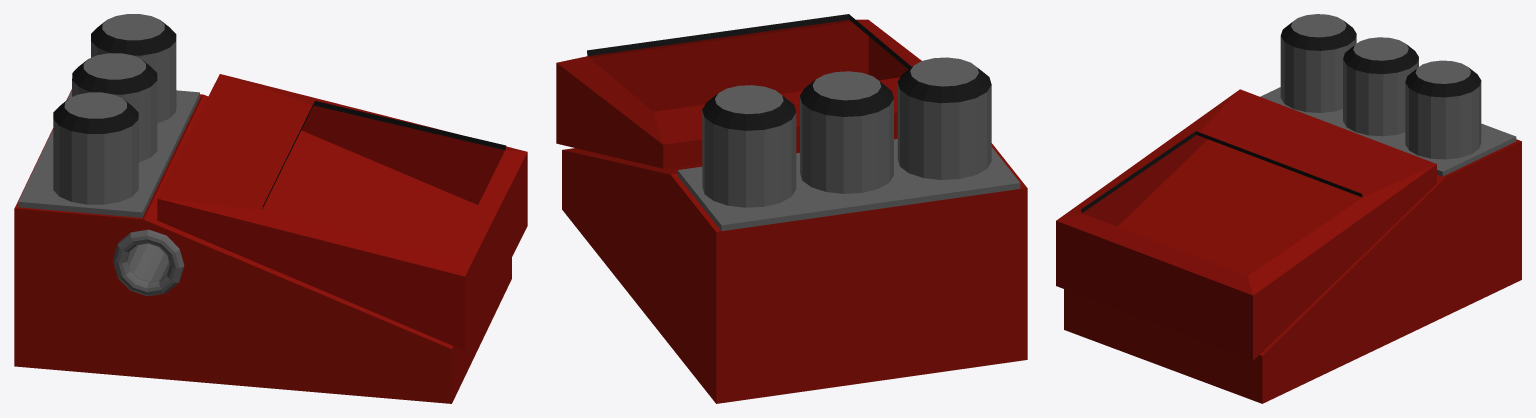
The model's file is GuitarPedal.fbx.
3 renders of one model, left to right at view 1: azimuth 30°, elevation 25°; view 2: azimuth 150°, elevation 25°; view 3: azimuth 270°, elevation 25°, orthographic. The views are drawn at different scales.
Parts seen in each view (by area): view 1: Pedal; view 2: Pedal; view 3: Pedal.
Boxes of the visible parts, x1,y1,x2,y2 form: Pedal: [14, 14, 527, 403]; Pedal: [556, 14, 1027, 403]; Pedal: [1056, 14, 1521, 403].
Bounding box in the file's own units: 36.2 × 17.81 × 35.16.
